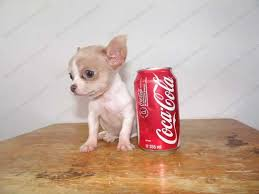chihuahua: (55, 31, 141, 158)
